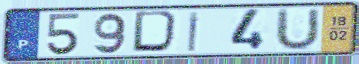4: (229, 7, 272, 53)
5: (45, 12, 82, 57)
9: (92, 12, 129, 55)
D: (130, 9, 184, 55)
I: (186, 10, 202, 53)
U: (272, 7, 321, 53)
